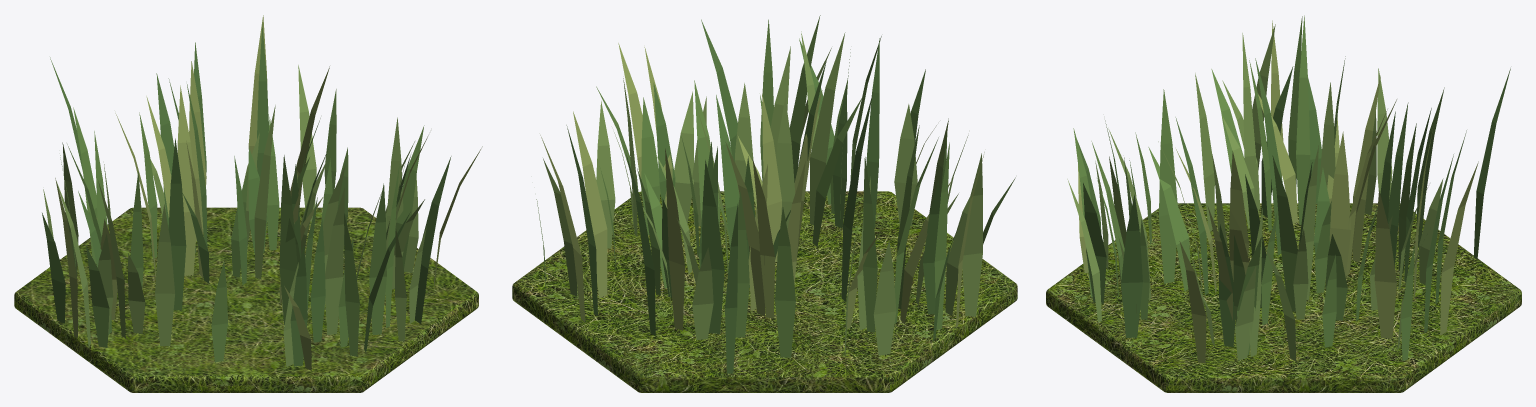
Rendered from tall-grass-v02.glb.
3 views of the same model, side by side, from view 1: azimuth 30°, elevation 25°; view 2: azimuth 150°, elevation 25°; view 3: azimuth 270°, elevation 25° (orthographic). The views are drawn at different scales.
Visible parts, largest first — view 1: tall-grass-hex-v01; view 2: tall-grass-hex-v01; view 3: tall-grass-hex-v01.
Boxes of the visible parts, bbox=[...] form: tall-grass-hex-v01: bbox=[14, 15, 482, 392]; tall-grass-hex-v01: bbox=[512, 15, 1017, 392]; tall-grass-hex-v01: bbox=[1046, 15, 1521, 392].
Size of the model in its own units: 1.74 by 0.8842 by 1.83.
5 materials, 1 textured.
